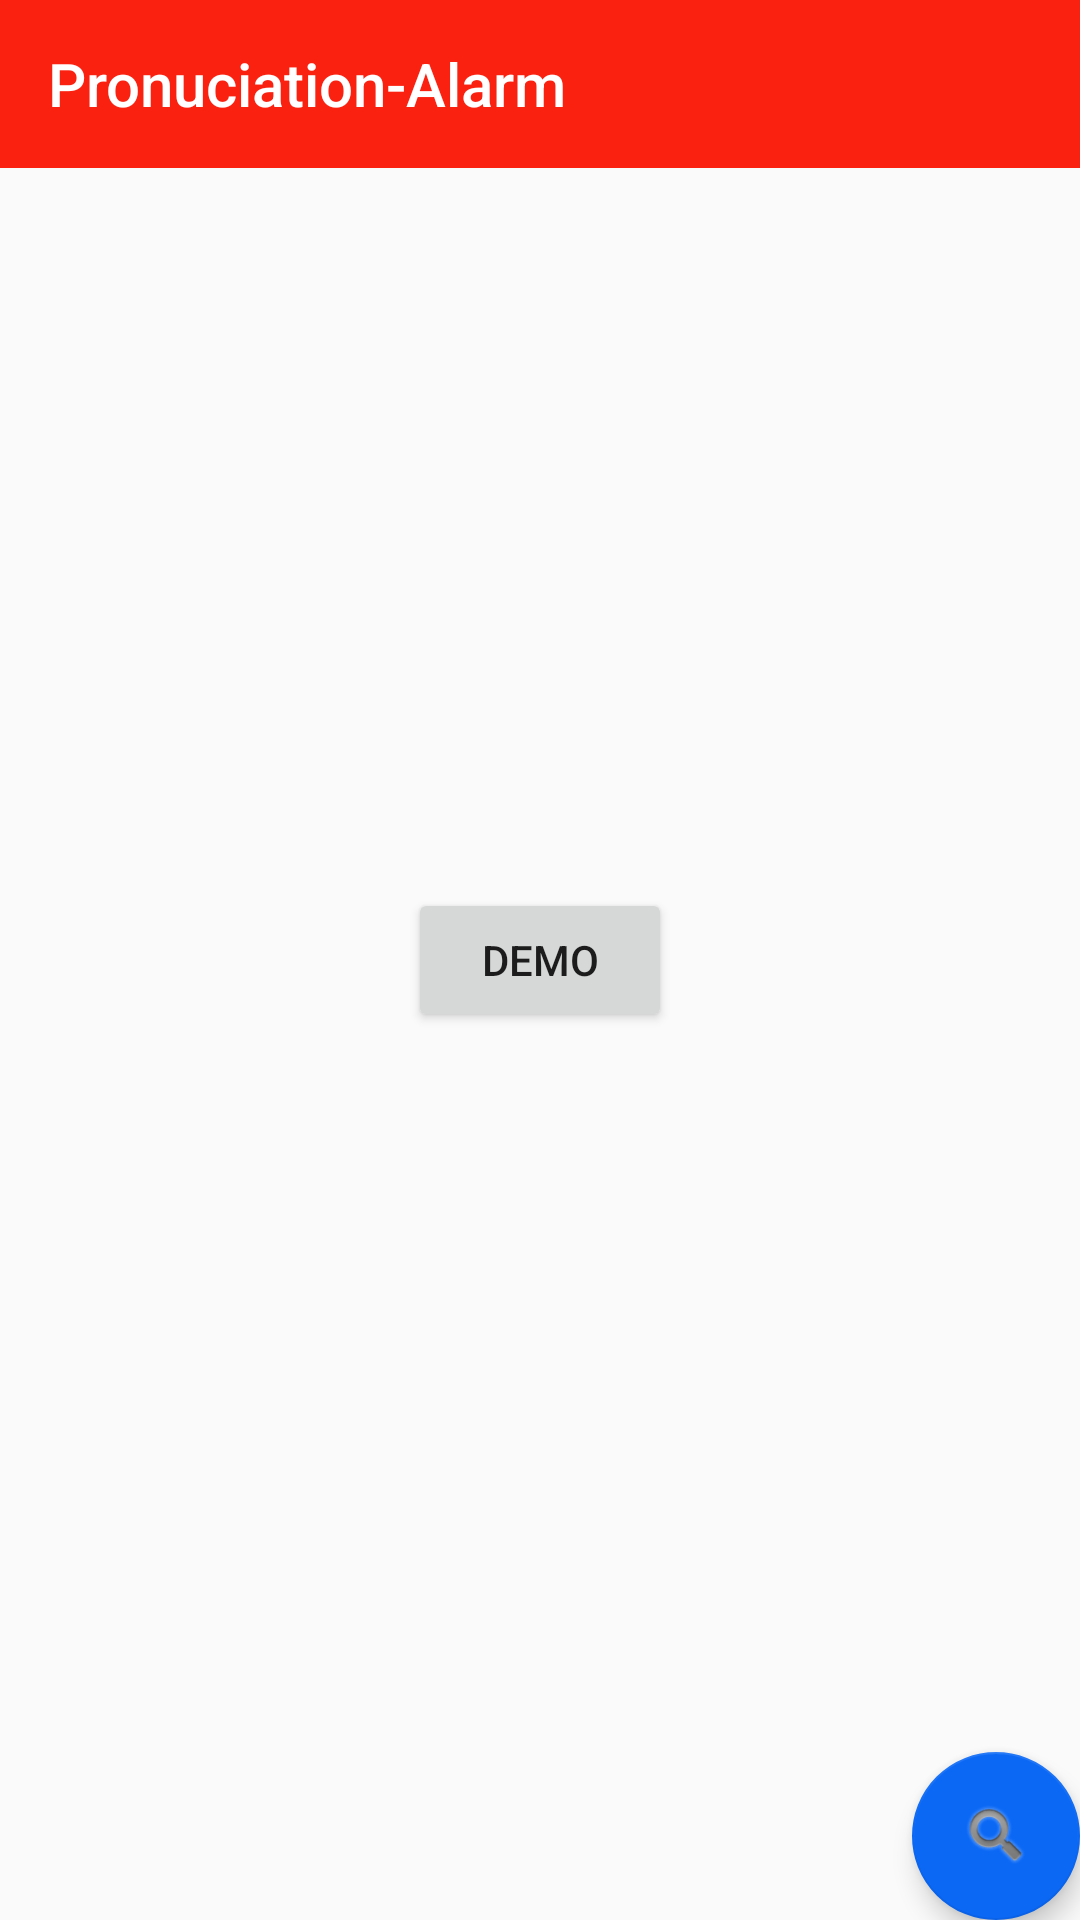

Icon click points for this 1080 × 1920 phone screenshot, format (x=x, y=y):
search category: (x=996, y=1836)
